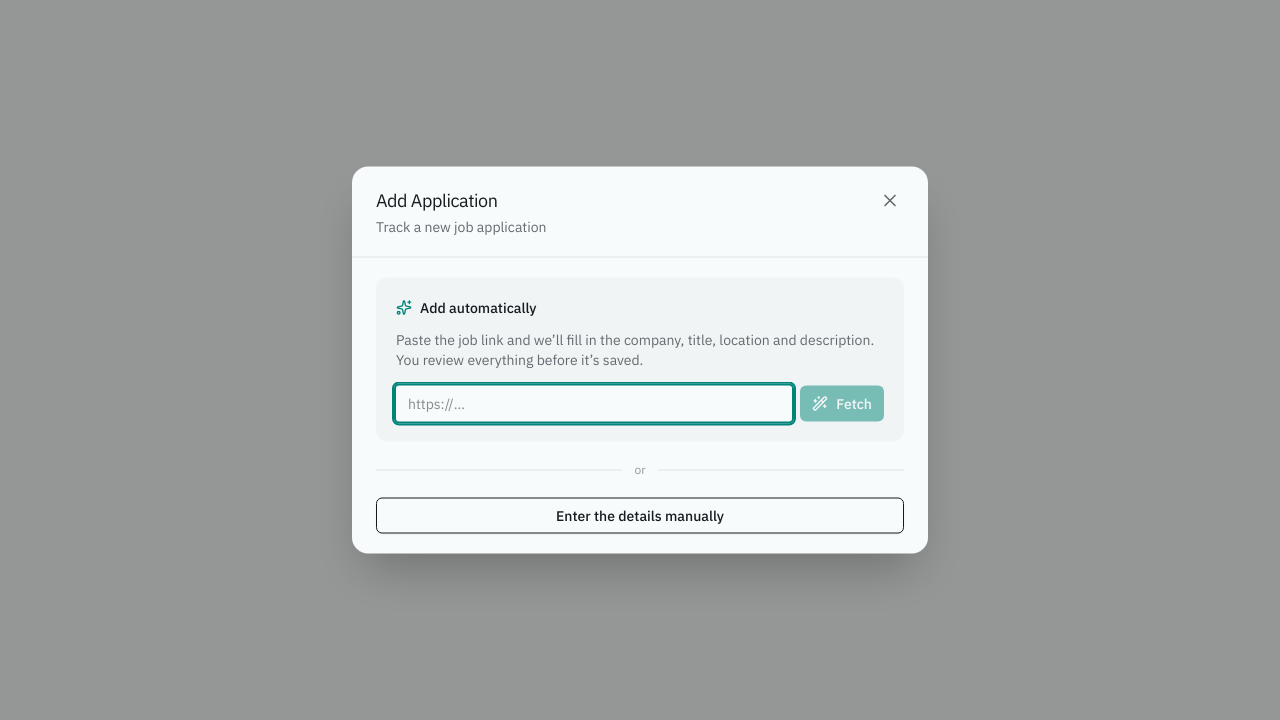
Test case: adding a job automatically › offers the paste fallback when a site refuses automated access
This screenshot has width=1280, height=720.
Type "https://www.linkedin.com/jobs/view/1" into the field named "Job URL" at (594, 404), box [396,386,792,422]
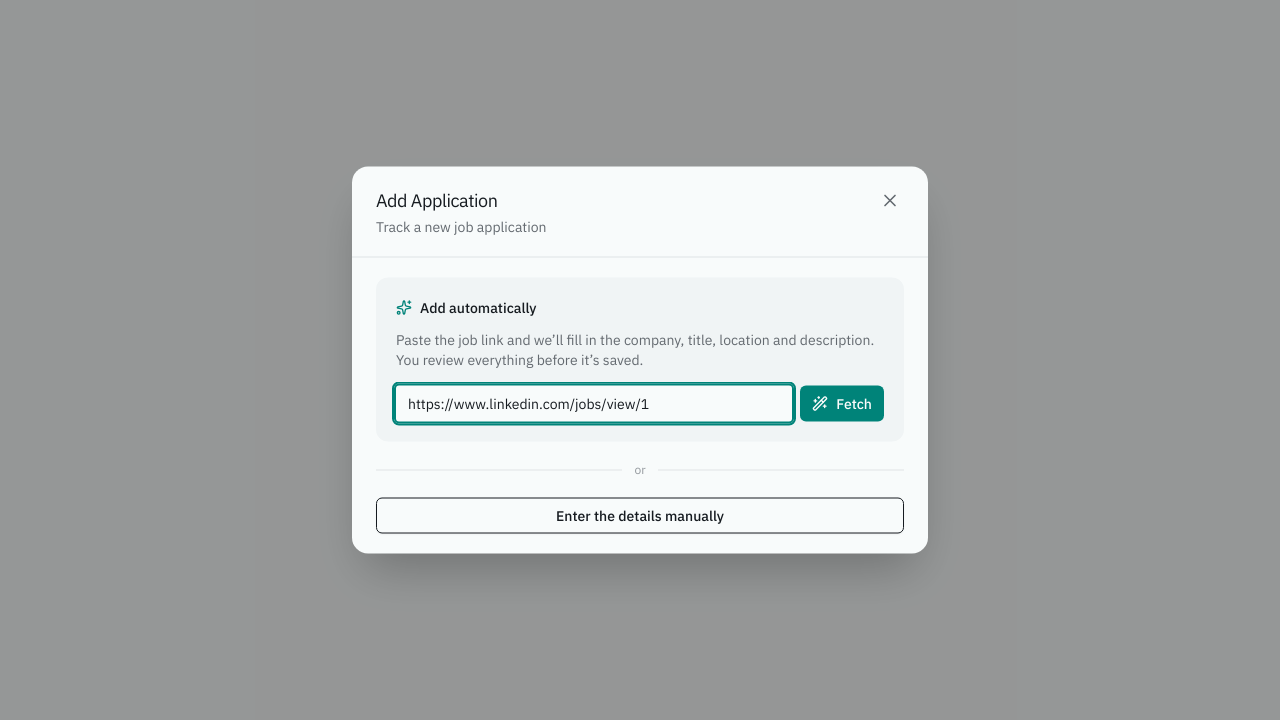
Click the button "Fetch" at (842, 404), box [800,386,884,422]
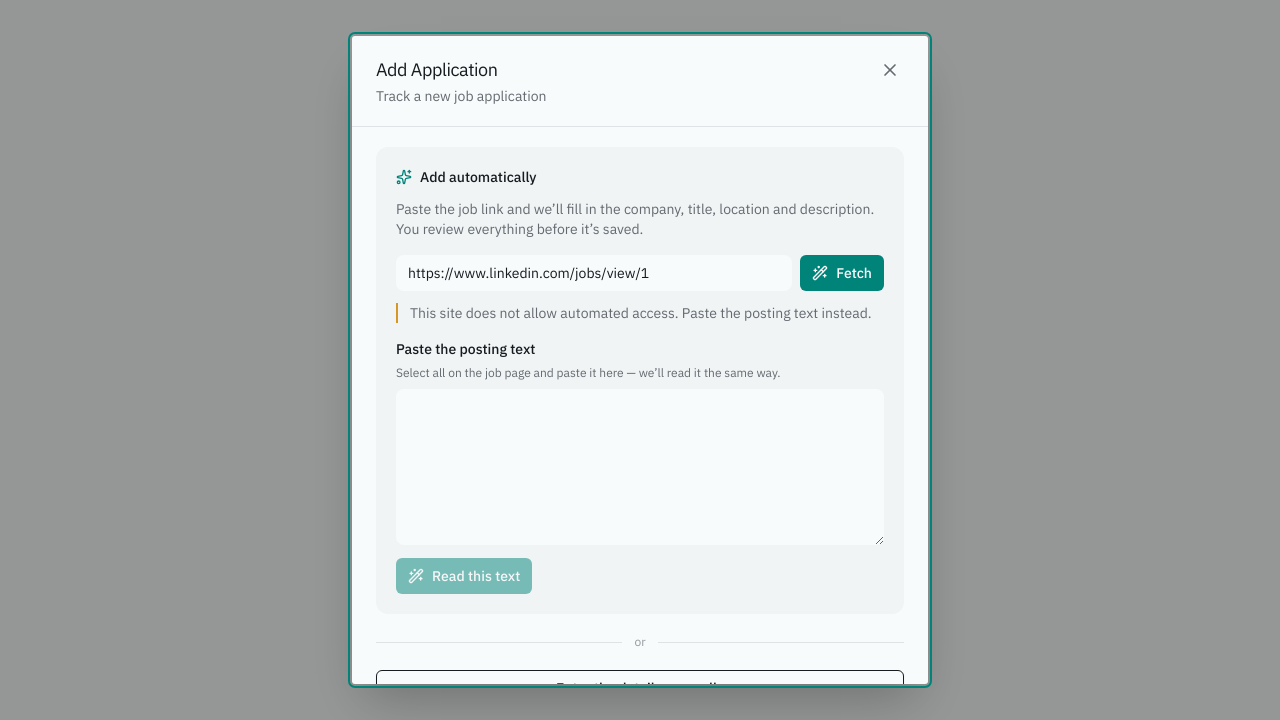
Result: the text "does not allow automated access" is shown at [410,304,872,322]
Result: the text box labelled "Paste the posting text" is shown at [396,389,884,545]
